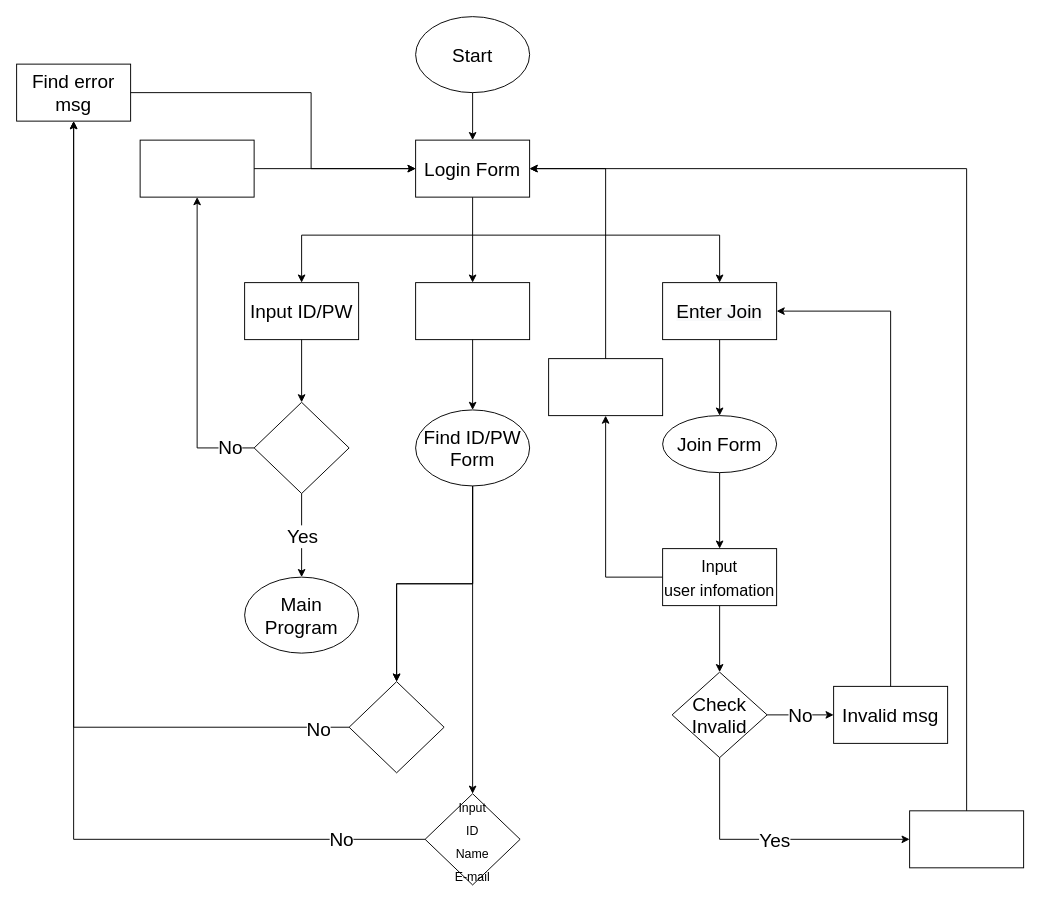
Image size: 1040x902. Some labels were removed from this diagram. Each missing label, with the centre of its shape:
"Cancel" goes at [605,387].
"Find ID/PW" goes at [472,311].
"Input Name E-mail" goes at [396,727].
"Join success msg" goes at [966,839].
"Login error msg" goes at [196,168].
"Vaild ID/PW" goes at [301,447].
